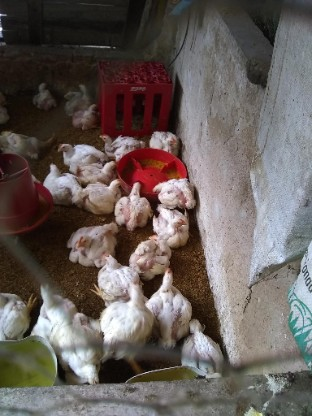Pollos: (100, 284, 156, 374), (175, 311, 228, 375), (63, 314, 109, 386), (149, 266, 193, 334), (66, 220, 123, 269), (129, 235, 171, 281), (0, 287, 35, 341), (35, 279, 74, 327), (115, 176, 151, 227), (98, 253, 139, 296), (155, 202, 192, 249), (0, 129, 53, 161), (44, 159, 80, 206), (153, 173, 198, 210), (81, 176, 123, 214), (56, 141, 101, 174), (98, 132, 145, 160), (151, 118, 182, 158), (77, 101, 107, 130), (33, 81, 58, 110), (87, 160, 122, 180), (72, 75, 92, 99), (0, 98, 14, 130)
